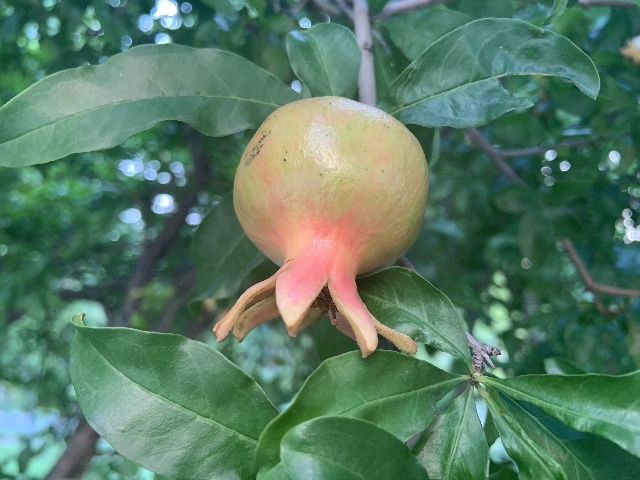mid-growth: (211, 95, 429, 356)
